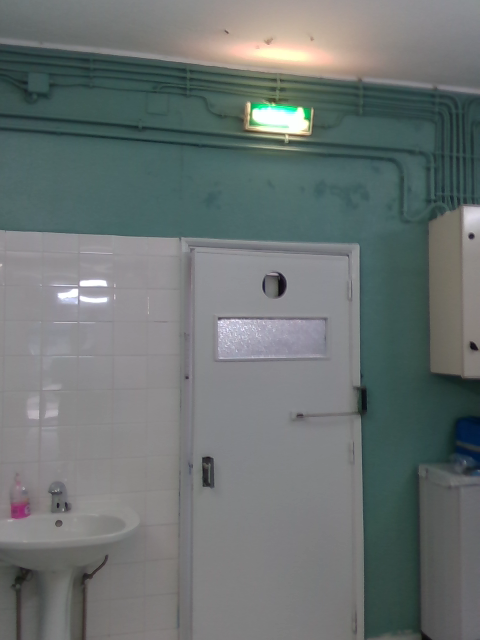closed: (183, 239, 364, 636)
